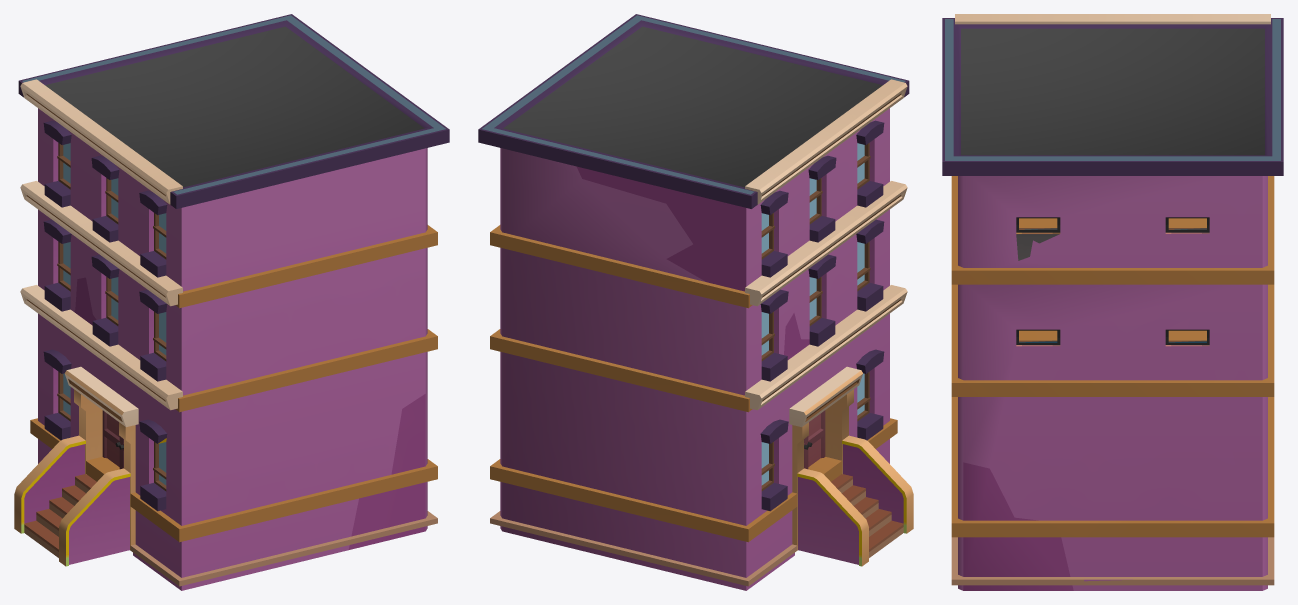
The picture shows the model from 3 angles, left to right: view 1: azimuth 30°, elevation 25°; view 2: azimuth 150°, elevation 25°; view 3: azimuth 270°, elevation 25°; orthographic projection. The views are drawn at different scales.
Parts seen in each view (by area): view 1: Building_5A004; view 2: Building_5A004; view 3: Building_5A004.
Boxes of the visible parts, x1=… form: Building_5A004: x1=14, y1=14, x2=449, y2=590; Building_5A004: x1=478, y1=14, x2=913, y2=590; Building_5A004: x1=942, y1=14, x2=1283, y2=590.
Bounding box in the file's own units: 22427 × 26294 × 18541.
